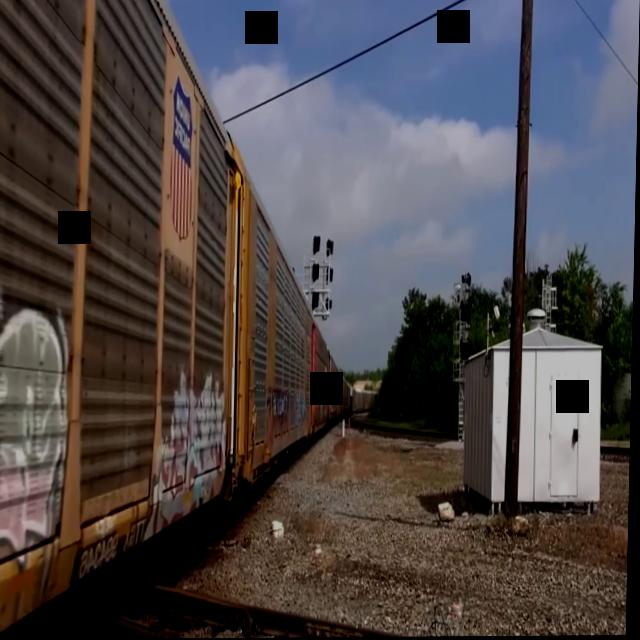autorack: (0, 0, 252, 640), (241, 159, 318, 510), (313, 308, 334, 458)
